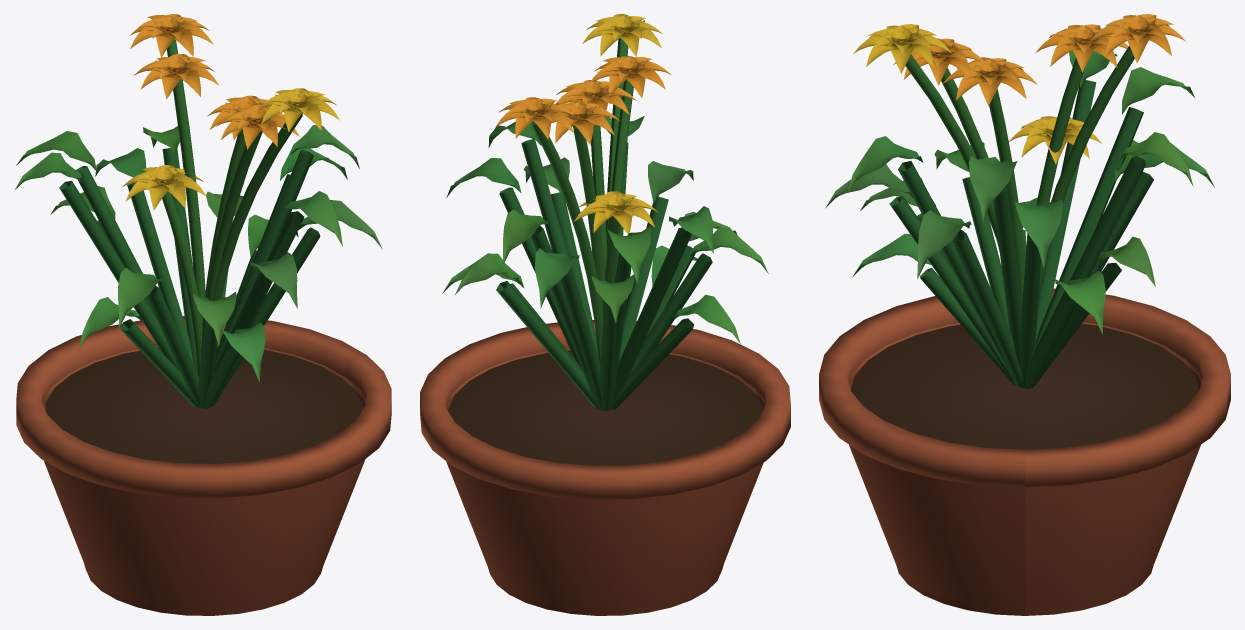
File: cravo-defunto.glb
3 views of the same model, side by side, from view 1: azimuth 30°, elevation 25°; view 2: azimuth 150°, elevation 25°; view 3: azimuth 270°, elevation 25° (orthographic). The views are drawn at different scales.
Parts seen in each view (by area): view 1: cravo-defunto; view 2: cravo-defunto; view 3: cravo-defunto.
Part boxes in pixels (x1,y1,x2,y2): cravo-defunto: [15, 14, 391, 615]; cravo-defunto: [420, 14, 790, 615]; cravo-defunto: [819, 14, 1230, 615].
Bounding box in the file's own units: 0.1696 × 0.249 × 0.1696.
